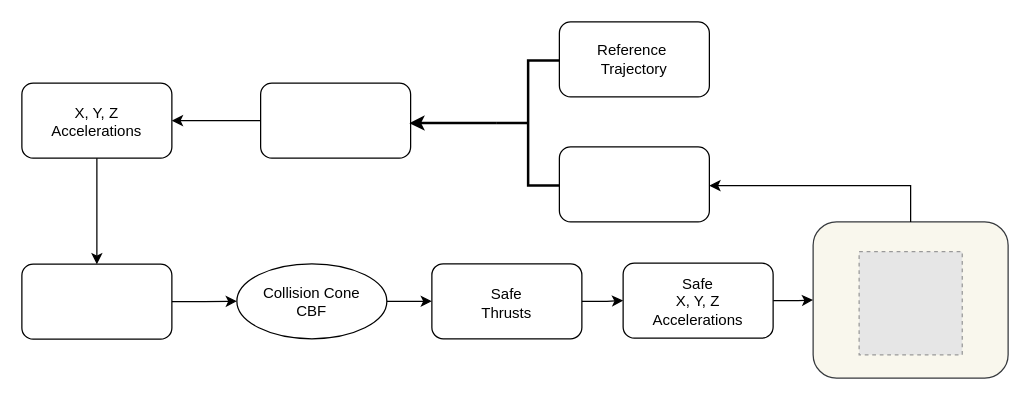
Image size: 1030x400. Some labels were removed from this diagram. Grey dashed boxes stand in for pictures. The shapes that lost their labels are listed below. From the top down, each one's centre as x and y in pixels, then its label:
point (335, 120): PD Control
point (633, 184): States
point (96, 301): Thrusts
